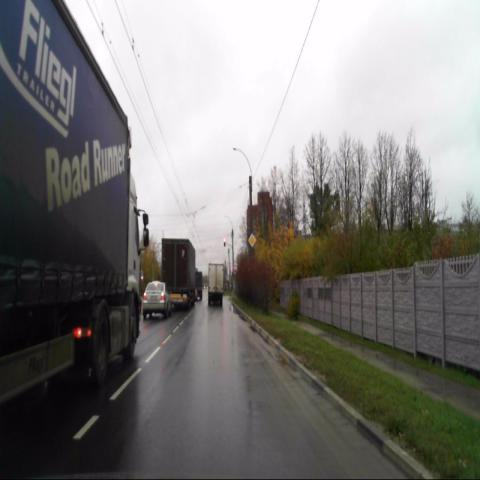2_1: (248, 233, 256, 247)
